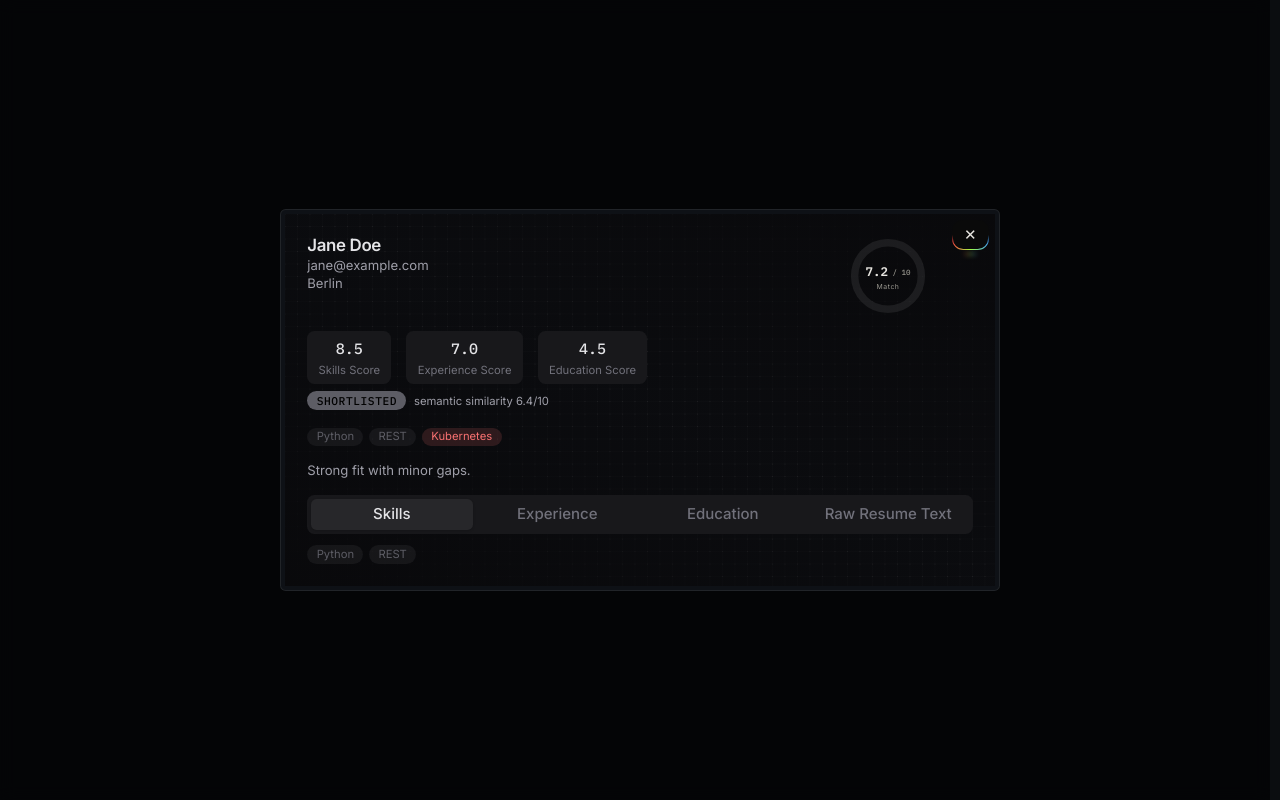
Test: CandidateDetail › switches to the education tab and shows the degree
Click the button "Education" at (723, 514), box [642, 499, 804, 530]
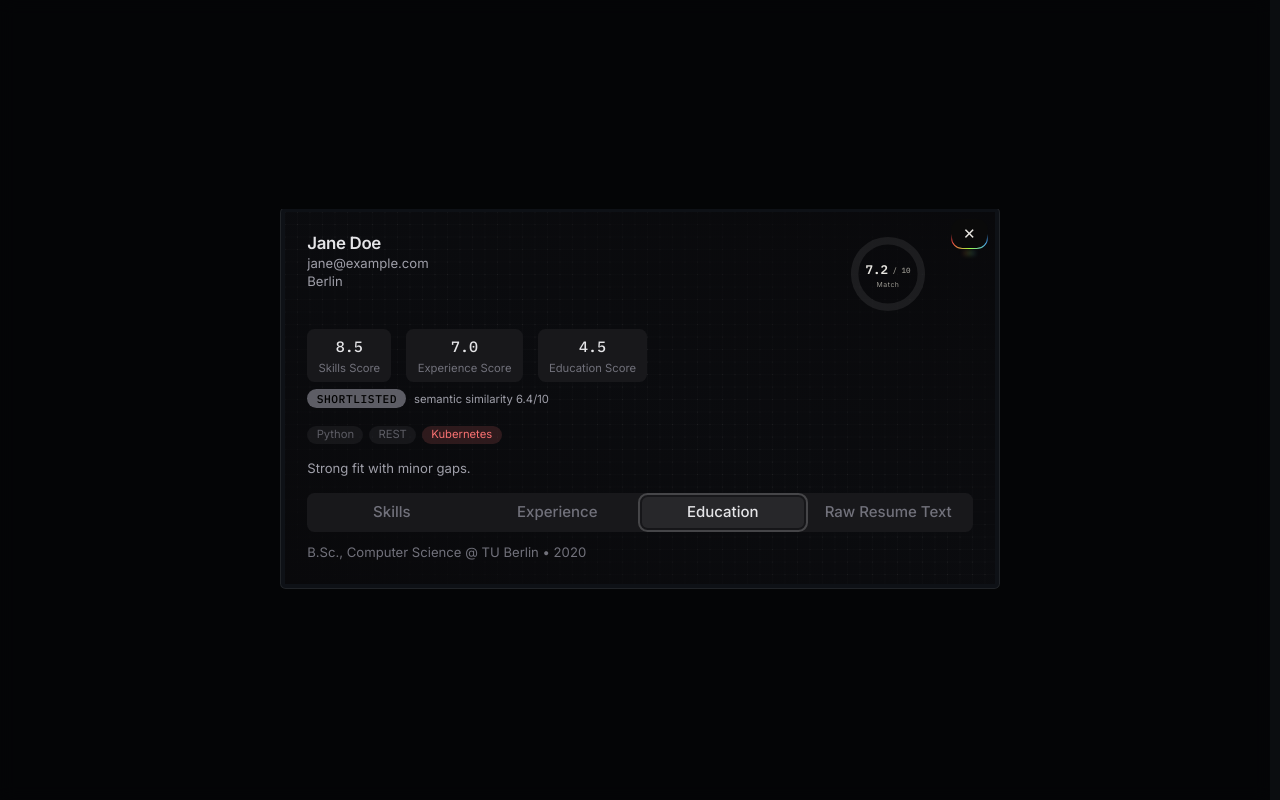
Expected: the text "B.Sc., Computer Science @ TU Berlin • 2020" is shown, [307, 544, 586, 560]
